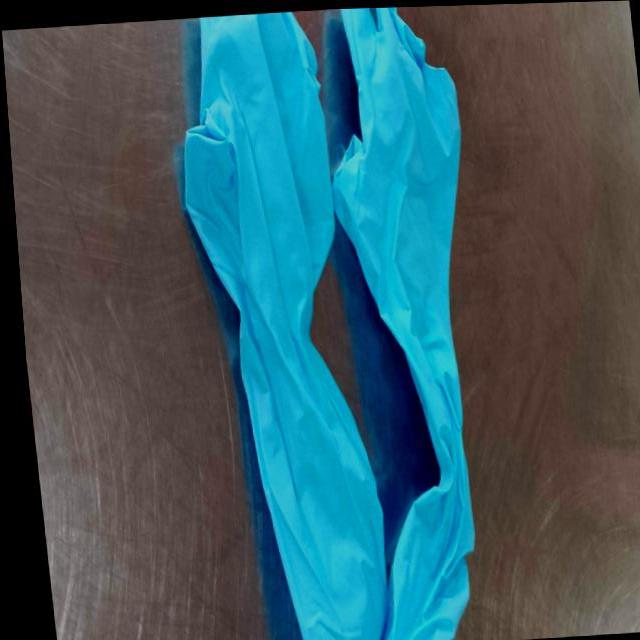General: (1, 1, 640, 639), (180, 7, 477, 639)
